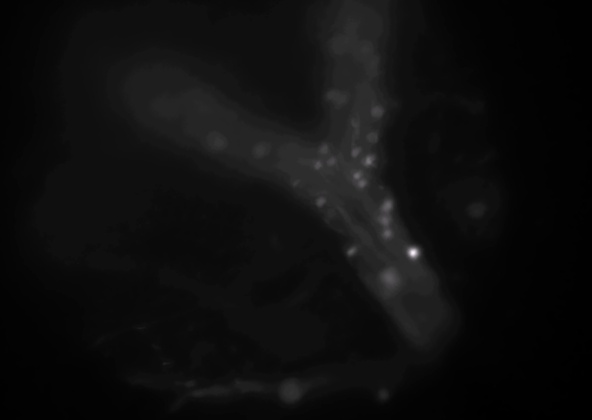cell: (406, 246, 420, 260), (371, 105, 385, 119), (349, 147, 363, 161), (362, 155, 376, 169), (317, 142, 331, 156), (310, 157, 324, 171), (325, 154, 339, 168), (324, 90, 338, 104), (350, 168, 364, 182), (333, 92, 347, 106), (354, 177, 368, 191), (343, 245, 357, 259), (382, 271, 396, 285), (380, 228, 394, 242), (381, 196, 395, 210), (377, 216, 391, 230), (378, 201, 392, 215), (313, 194, 327, 208), (288, 178, 302, 192), (256, 143, 270, 157), (208, 136, 222, 150), (358, 43, 372, 57), (369, 54, 383, 68), (331, 40, 345, 54), (366, 130, 380, 144)
